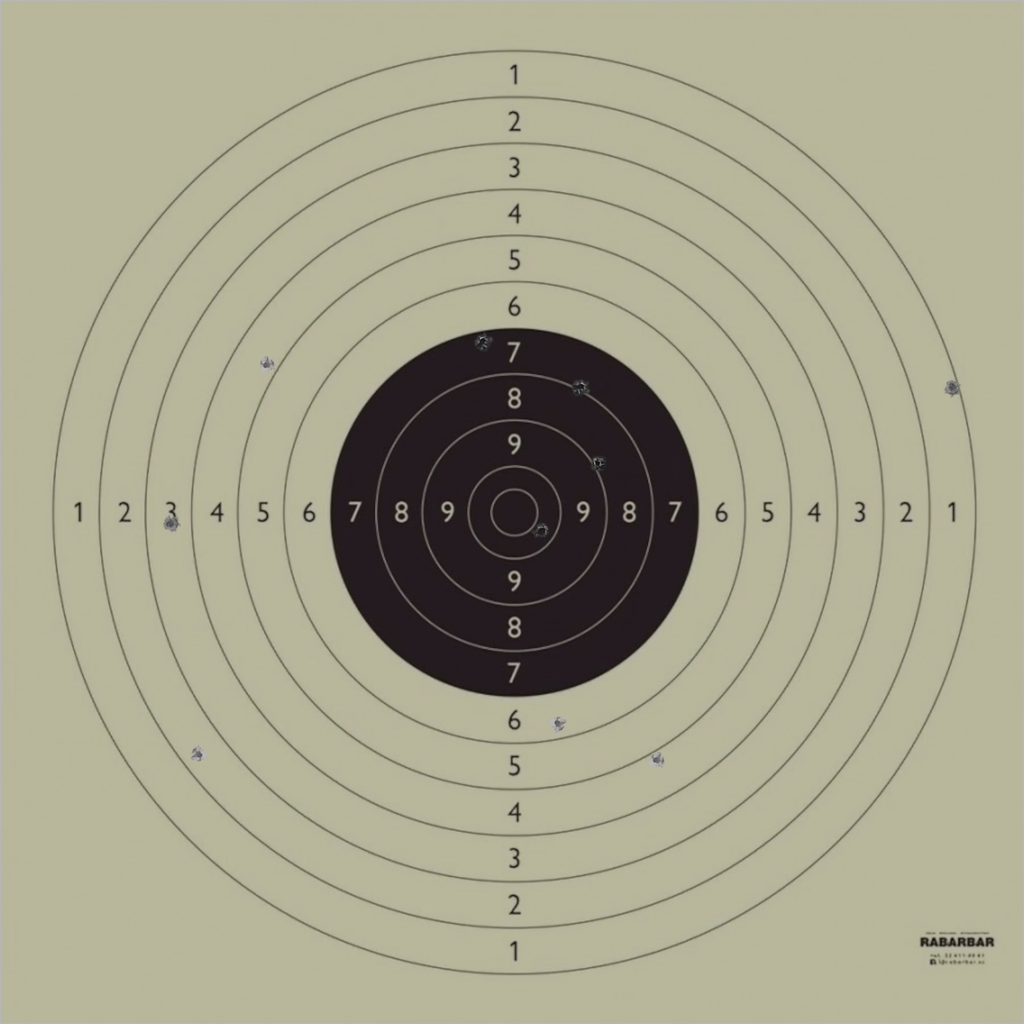0 punktow: (198, 3, 216, 22)
1 punkt: (943, 378, 962, 397)
10 punktow: (532, 522, 550, 540)
2 punkty: (189, 745, 208, 764)
3 punkty: (162, 515, 180, 533)
4 punkty: (257, 356, 276, 374)
5 punktow: (647, 751, 666, 769)
6 punktow: (549, 714, 567, 733)
7 punktow: (474, 332, 492, 351)
8 punktow: (572, 378, 590, 396)
9 punktow: (588, 454, 607, 472)
